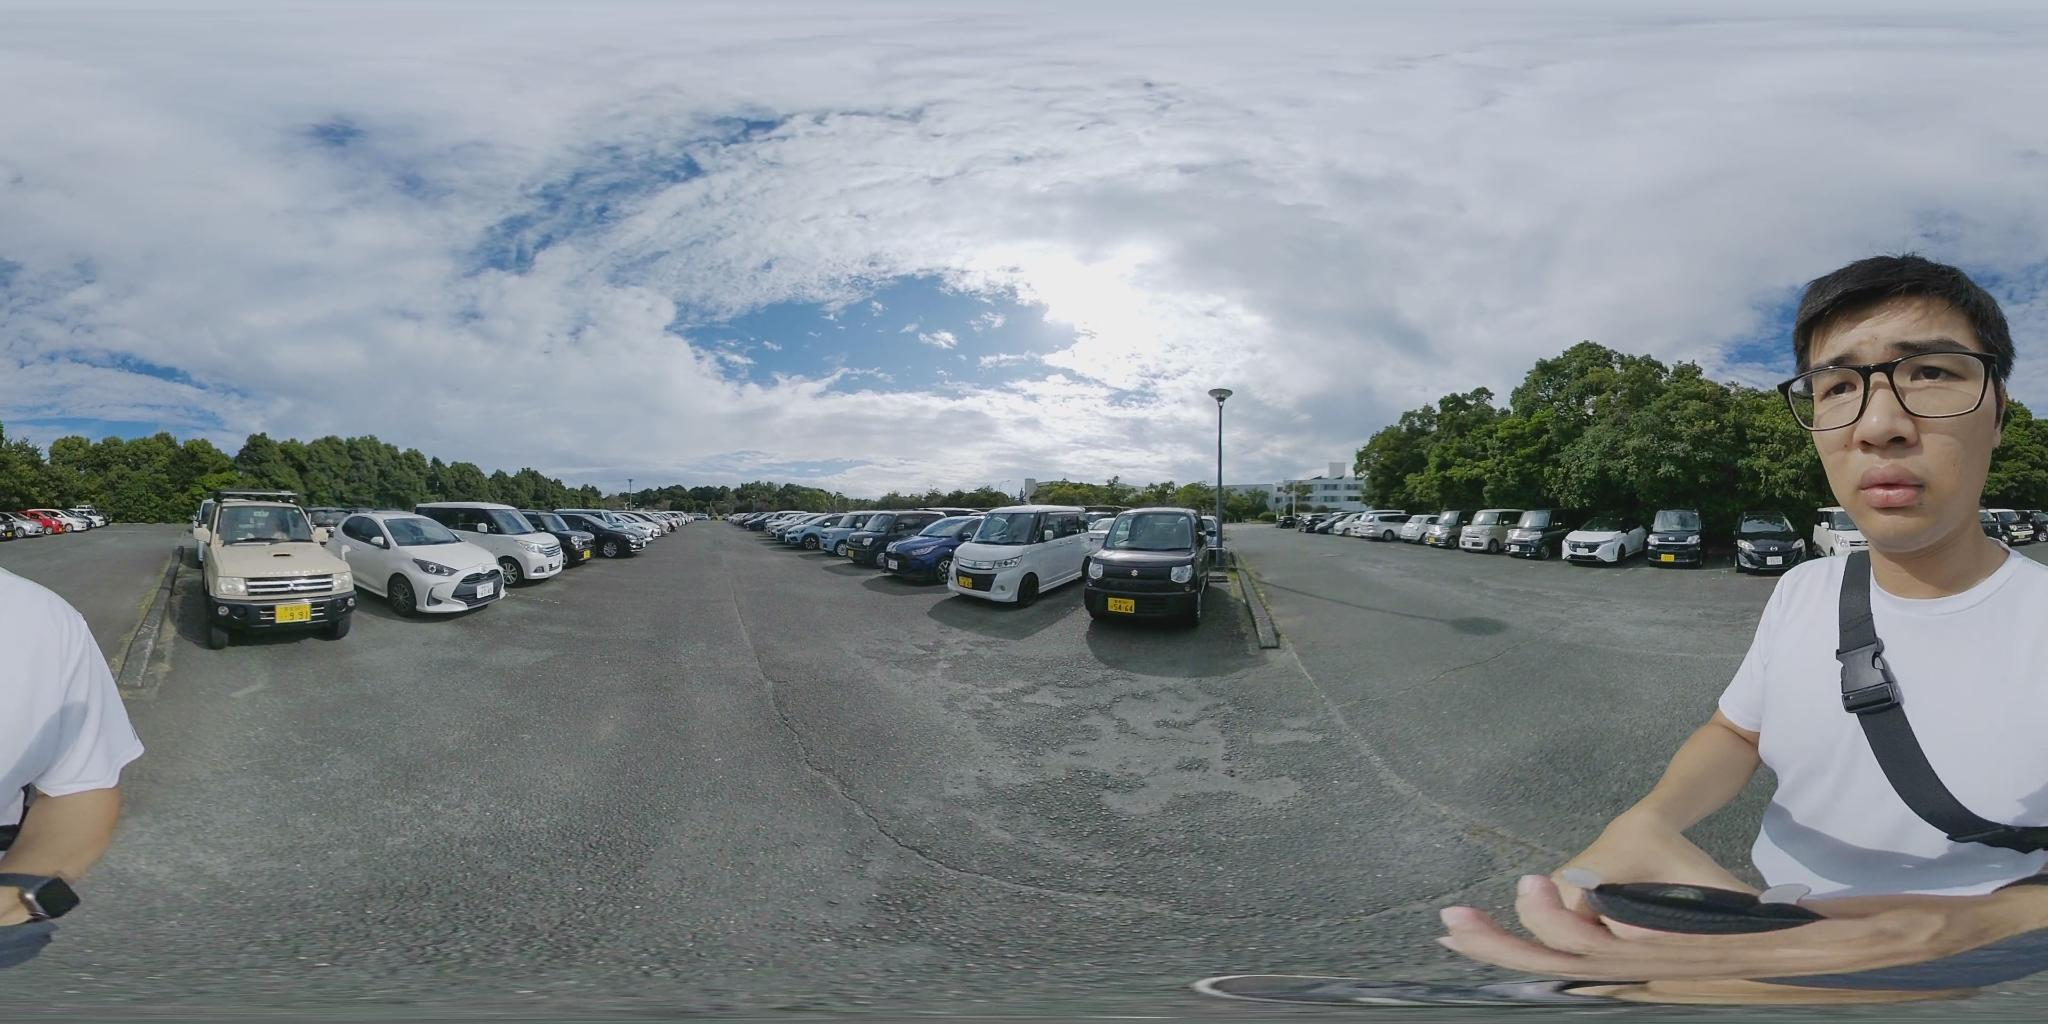car: (183, 495, 359, 648), (324, 512, 505, 620), (934, 507, 1097, 603), (1085, 507, 1215, 622), (411, 503, 580, 583), (872, 515, 982, 577), (828, 509, 951, 560), (1735, 513, 1812, 572), (555, 513, 652, 559), (1565, 516, 1647, 566), (819, 515, 905, 556), (1650, 507, 1704, 569), (1497, 511, 1563, 558), (1463, 511, 1531, 555), (1447, 513, 1506, 551), (767, 516, 825, 550), (1361, 515, 1420, 543), (1415, 515, 1465, 547), (63, 507, 107, 529)
